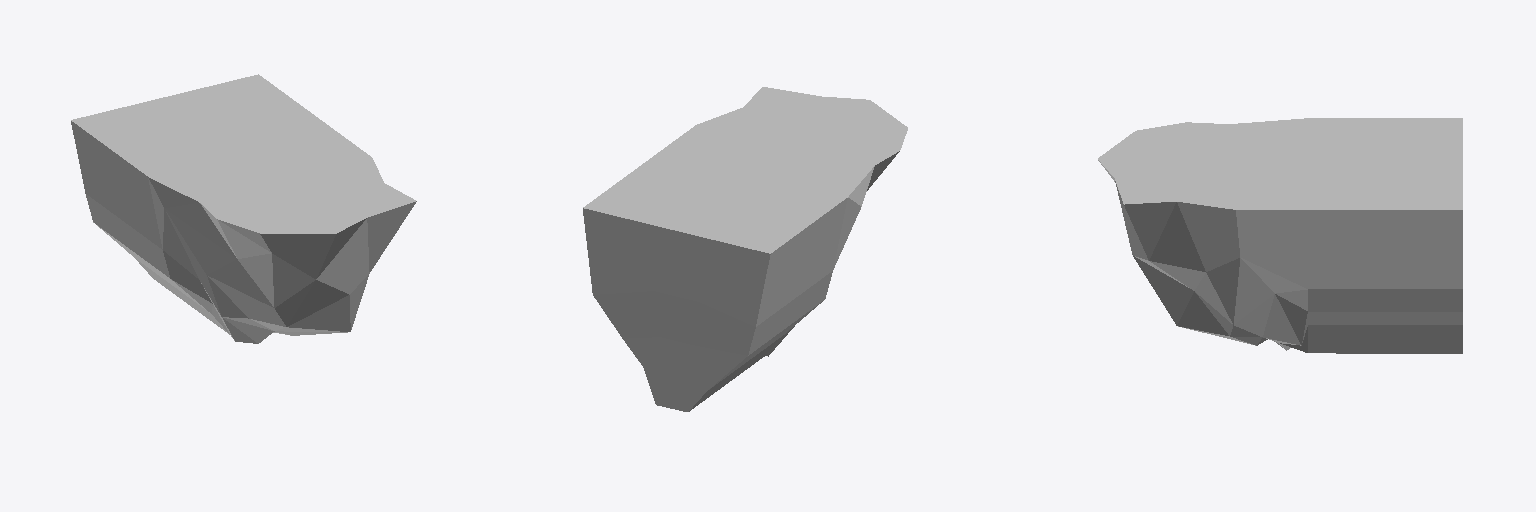
The model's file is RockPlatform7Lengthened.obj.
3 renders of one model, left to right at view 1: azimuth 30°, elevation 25°; view 2: azimuth 150°, elevation 25°; view 3: azimuth 270°, elevation 25°, orthographic.
Visible parts, largest first — view 1: Cube.006; view 2: Cube.006; view 3: Cube.006.
Boxes of the visible parts, x1,y1,x2,y2 form: Cube.006: [71, 74, 416, 343]; Cube.006: [583, 87, 907, 411]; Cube.006: [1098, 118, 1462, 353].
Size of the model in its own units: 2 by 1.87 by 3.37.